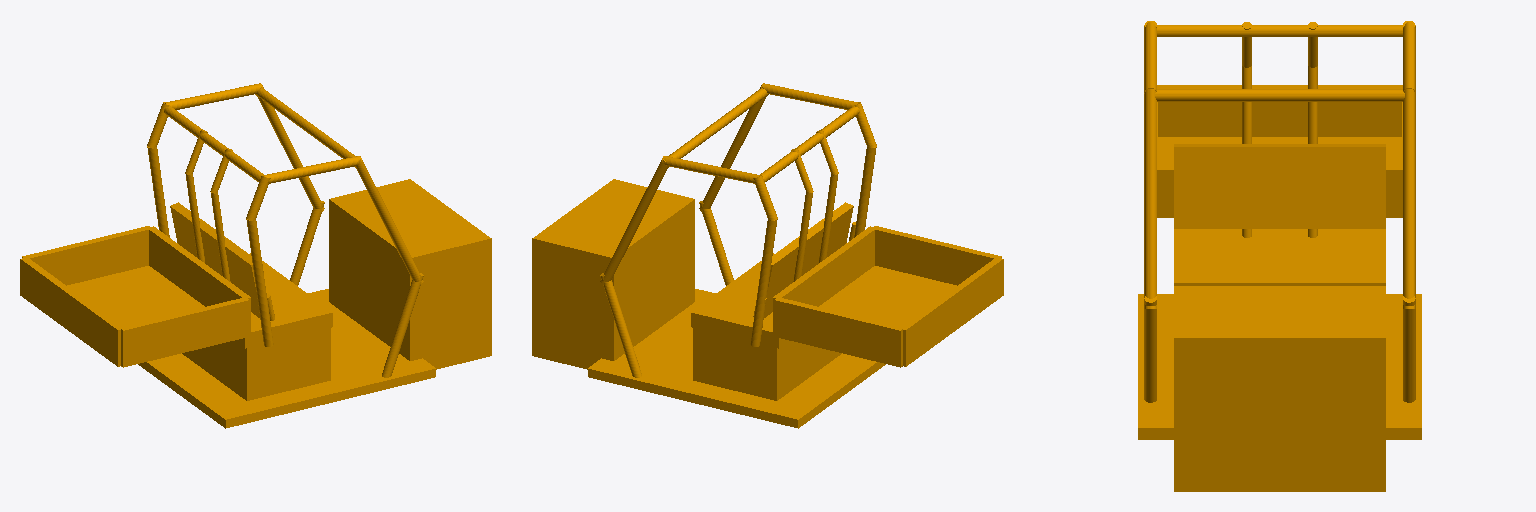
The robot description file, URDF, robot "polaris_ranger_ev":
<?xml version="1.0" encoding="UTF-8"?><robot xmlns:trans="http://www.mit.edu" xmlns:xs="http://www.w3.org/2001/XMLSchema" xmlns:mat="http://www.mit.edu" name="polaris_ranger_ev">
    <link name="chassis">
      
      <collision name="chassis_bottom">
         <origin xyz="0.1 0 0.37" rpy="0 -0 0"/>
         <geometry>
            <box size="1.5 1.34 0.06"/>
         </geometry>
      </collision>
  <visual name="chassis_bottom">
         <origin xyz="0.1 0 0.37" rpy="0 -0 0"/>
         <geometry>
            <box size="1.5 1.34 0.06"/>
         </geometry>
      </visual>
  
      <collision name="cargo_bottom">
         <origin xyz="-0.9 0 0.9" rpy="0 -0 0"/>
         <geometry>
            <box size="0.9 1.2 0.01"/>
         </geometry>
      </collision>
  <visual name="cargo_bottom">
         <origin xyz="-0.9 0 0.9" rpy="0 -0 0"/>
         <geometry>
            <box size="0.9 1.2 0.01"/>
         </geometry>
      </visual>
  
      <collision name="cargo_front">
         <origin xyz="-0.45 0 1.025" rpy="0 -0 0"/>
         <geometry>
            <box size="0.05 1.2 0.25"/>
         </geometry>
      </collision>
  <visual name="cargo_front">
         <origin xyz="-0.45 0 1.025" rpy="0 -0 0"/>
         <geometry>
            <box size="0.05 1.2 0.25"/>
         </geometry>
      </visual>
  
      <collision name="cargo_back">
         <origin xyz="-1.35 0 1.025" rpy="0 -0 0"/>
         <geometry>
            <box size="0.05 1.2 0.25"/>
         </geometry>
      </collision>
  <visual name="cargo_back">
         <origin xyz="-1.35 0 1.025" rpy="0 -0 0"/>
         <geometry>
            <box size="0.05 1.2 0.25"/>
         </geometry>
      </visual>
  
      <collision name="cargo_left">
         <origin xyz="-0.9 0.6 1.025" rpy="0 -0 0"/>
         <geometry>
            <box size="0.9 0.05 0.25"/>
         </geometry>
      </collision>
  <visual name="cargo_left">
         <origin xyz="-0.9 0.6 1.025" rpy="0 -0 0"/>
         <geometry>
            <box size="0.9 0.05 0.25"/>
         </geometry>
      </visual>
  
      <collision name="cargo_right">
         <origin xyz="-0.9 -0.6 1.025" rpy="0 -0 0"/>
         <geometry>
            <box size="0.9 0.05 0.25"/>
         </geometry>
      </collision>
  <visual name="cargo_right">
         <origin xyz="-0.9 -0.6 1.025" rpy="0 -0 0"/>
         <geometry>
            <box size="0.9 0.05 0.25"/>
         </geometry>
      </visual>
  
      <collision name="seat">
         <origin xyz="-0.1 0 0.56" rpy="0 -0 0"/>
         <geometry>
            <box size="0.6 1.0 0.50"/>
         </geometry>
      </collision>
  <visual name="seat">
         <origin xyz="-0.1 0 0.56" rpy="0 -0 0"/>
         <geometry>
            <box size="0.6 1.0 0.50"/>
         </geometry>
      </visual>
  
      <collision name="mud_seat">
         <origin xyz="-0.1 0 0.81" rpy="0 -0 0"/>
         <geometry>
            <box size="0.63 1.0 0.1"/>
         </geometry>
      </collision>
  <visual name="mud_seat">
         <origin xyz="-0.1 0 0.81" rpy="0 -0 0"/>
         <geometry>
            <box size="0.63 1.0 0.1"/>
         </geometry>
      </visual>
  
      <collision name="seat_back">
         <origin xyz="-0.3 0 1.125" rpy="0 -0.19999999999999998 0"/>
         <geometry>
            <box size="0.06 1.0 0.4"/>
         </geometry>
      </collision>
  <visual name="seat_back">
         <origin xyz="-0.3 0 1.125" rpy="0 -0.19999999999999998 0"/>
         <geometry>
            <box size="0.06 1.0 0.4"/>
         </geometry>
      </visual>
  
      <collision name="engine">
         <origin xyz="1.05 0 0.7" rpy="0 -0 0"/>
         <geometry>
            <box size="0.58 1.0 0.8"/>
         </geometry>
      </collision>
  <visual name="engine">
         <origin xyz="1.05 0 0.7" rpy="0 -0 0"/>
         <geometry>
            <box size="0.58 1.0 0.8"/>
         </geometry>
      </visual>
  
      <collision name="handle_left_middle">
         <origin xyz="-0.35 0.61 1.055" rpy="0 -0.19999999999999998 0"/>
         <geometry>
            <cylinder radius="0.02" length="0.17"/>
         </geometry>
      </collision>
  <visual name="handle_left_middle">
         <origin xyz="-0.35 0.61 1.055" rpy="0 -0.19999999999999998 0"/>
         <geometry>
            <cylinder radius="0.02" length="0.17"/>
         </geometry>
      </visual>
  
      <collision name="handle_right_middle">
         <origin xyz="-0.3 -0.61 1.055" rpy="0 -0.19999999999999998 0"/>
         <geometry>
            <cylinder radius="0.02" length="0.17"/>
         </geometry>
      </collision>
  <visual name="handle_right_middle">
         <origin xyz="-0.3 -0.61 1.055" rpy="0 -0.19999999999999998 0"/>
         <geometry>
            <cylinder radius="0.02" length="0.17"/>
         </geometry>
      </visual>
  
      <collision name="rollcage_top_left">
         <origin xyz="0 0.61 1.92" rpy="3.141592653589793 1.5315926535897932 3.141592653589793"/>
         <geometry>
            <cylinder radius="0.03" length="0.68"/>
         </geometry>
      </collision>
  <visual name="rollcage_top_left">
         <origin xyz="0 0.61 1.92" rpy="3.141592653589793 1.5315926535897932 3.141592653589793"/>
         <geometry>
            <cylinder radius="0.03" length="0.68"/>
         </geometry>
      </visual>
  
      <collision name="rollcage_top_right">
         <origin xyz="0 -0.61 1.92" rpy="3.141592653589793 1.5315926535897932 3.141592653589793"/>
         <geometry>
            <cylinder radius="0.03" length="0.68"/>
         </geometry>
      </collision>
  <visual name="rollcage_top_right">
         <origin xyz="0 -0.61 1.92" rpy="3.141592653589793 1.5315926535897932 3.141592653589793"/>
         <geometry>
            <cylinder radius="0.03" length="0.68"/>
         </geometry>
      </visual>
  
      <collision name="rollcage_top_front">
         <origin xyz="0.325 0 1.89" rpy="1.570796 -0 0"/>
         <geometry>
            <cylinder radius="0.03" length="1.22"/>
         </geometry>
      </collision>
  <visual name="rollcage_top_front">
         <origin xyz="0.325 0 1.89" rpy="1.570796 -0 0"/>
         <geometry>
            <cylinder radius="0.03" length="1.22"/>
         </geometry>
      </visual>
  
      <collision name="rollcage_top_back">
         <origin xyz="-0.33 0 1.92" rpy="1.570796 -0 0"/>
         <geometry>
            <cylinder radius="0.03" length="1.22"/>
         </geometry>
      </collision>
  <visual name="rollcage_top_back">
         <origin xyz="-0.33 0 1.92" rpy="1.570796 -0 0"/>
         <geometry>
            <cylinder radius="0.03" length="1.22"/>
         </geometry>
      </visual>
  
      <collision name="rollcage_front_left">
         <origin xyz="0.54 0.61 1.45" rpy="0 -0.44000000000000006 0"/>
         <geometry>
            <cylinder radius="0.03" length="1.04"/>
         </geometry>
      </collision>
  <visual name="rollcage_front_left">
         <origin xyz="0.54 0.61 1.45" rpy="0 -0.44000000000000006 0"/>
         <geometry>
            <cylinder radius="0.03" length="1.04"/>
         </geometry>
      </visual>
  
      <collision name="rollcage_front_right">
         <origin xyz="0.54 -0.61 1.45" rpy="0 -0.44000000000000006 0"/>
         <geometry>
            <cylinder radius="0.03" length="1.04"/>
         </geometry>
      </collision>
  <visual name="rollcage_front_right">
         <origin xyz="0.54 -0.61 1.45" rpy="0 -0.44000000000000006 0"/>
         <geometry>
            <cylinder radius="0.03" length="1.04"/>
         </geometry>
      </visual>
  
      <collision name="fender_front_right">
         <origin xyz="0.64 -0.61 0.7" rpy="0 0.35 0"/>
         <geometry>
            <cylinder radius="0.03" length="0.72"/>
         </geometry>
      </collision>
  <visual name="fender_front_right">
         <origin xyz="0.64 -0.61 0.7" rpy="0 0.35 0"/>
         <geometry>
            <cylinder radius="0.03" length="0.72"/>
         </geometry>
      </visual>
  
      <collision name="fender_front_left">
         <origin xyz="0.64 0.61 0.7" rpy="0 0.35 0"/>
         <geometry>
            <cylinder radius="0.03" length="0.72"/>
         </geometry>
      </collision>
  <visual name="fender_front_left">
         <origin xyz="0.64 0.61 0.7" rpy="0 0.35 0"/>
         <geometry>
            <cylinder radius="0.03" length="0.72"/>
         </geometry>
      </visual>
  
      <collision name="rollcage_back_left">
         <origin xyz="-0.37 0.61 1.25" rpy="0 -0.14 0"/>
         <geometry>
            <cylinder radius="0.03" length="0.90"/>
         </geometry>
      </collision>
  <visual name="rollcage_back_left">
         <origin xyz="-0.37 0.61 1.25" rpy="0 -0.14 0"/>
         <geometry>
            <cylinder radius="0.03" length="0.90"/>
         </geometry>
      </visual>
  
      <collision name="rollcage_back_right">
         <origin xyz="-0.37 -0.61 1.25" rpy="0 -0.14 0"/>
         <geometry>
            <cylinder radius="0.03" length="0.90"/>
         </geometry>
      </collision>
  <visual name="rollcage_back_right">
         <origin xyz="-0.37 -0.61 1.25" rpy="0 -0.14 0"/>
         <geometry>
            <cylinder radius="0.03" length="0.90"/>
         </geometry>
      </visual>
  
      <collision name="rollcage_back_midleft">
         <origin xyz="-0.37 0.155 1.25" rpy="0 -0.14 0"/>
         <geometry>
            <cylinder radius="0.023" length="0.90"/>
         </geometry>
      </collision>
  <visual name="rollcage_back_midleft">
         <origin xyz="-0.37 0.155 1.25" rpy="0 -0.14 0"/>
         <geometry>
            <cylinder radius="0.023" length="0.90"/>
         </geometry>
      </visual>
  
      <collision name="rollcage_back_midright">
         <origin xyz="-0.37 -0.155 1.25" rpy="0 -0.14 0"/>
         <geometry>
            <cylinder radius="0.023" length="0.90"/>
         </geometry>
      </collision>
  <visual name="rollcage_back_midright">
         <origin xyz="-0.37 -0.155 1.25" rpy="0 -0.14 0"/>
         <geometry>
            <cylinder radius="0.023" length="0.90"/>
         </geometry>
      </visual>
  
      <collision name="rollcage_back_upper_left">
         <origin xyz="-0.38 0.61 1.82" rpy="0 0.4 0"/>
         <geometry>
            <cylinder radius="0.03" length="0.29"/>
         </geometry>
      </collision>
  <visual name="rollcage_back_upper_left">
         <origin xyz="-0.38 0.61 1.82" rpy="0 0.4 0"/>
         <geometry>
            <cylinder radius="0.03" length="0.29"/>
         </geometry>
      </visual>
  
      <collision name="rollcage_back_upper_right">
         <origin xyz="-0.38 -0.61 1.82" rpy="0 0.4 0"/>
         <geometry>
            <cylinder radius="0.03" length="0.29"/>
         </geometry>
      </collision>
  <visual name="rollcage_back_upper_right">
         <origin xyz="-0.38 -0.61 1.82" rpy="0 0.4 0"/>
         <geometry>
            <cylinder radius="0.03" length="0.29"/>
         </geometry>
      </visual>
  
      <collision name="rollcage_back_upper_midleft">
         <origin xyz="-0.38 0.155 1.82" rpy="0 0.4 0"/>
         <geometry>
            <cylinder radius="0.023" length="0.29"/>
         </geometry>
      </collision>
  <visual name="rollcage_back_upper_midleft">
         <origin xyz="-0.38 0.155 1.82" rpy="0 0.4 0"/>
         <geometry>
            <cylinder radius="0.023" length="0.29"/>
         </geometry>
      </visual>
  
      <collision name="rollcage_back_upper_midright">
         <origin xyz="-0.38 -0.155 1.82" rpy="0 0.4 0"/>
         <geometry>
            <cylinder radius="0.023" length="0.29"/>
         </geometry>
      </collision>
  <visual name="rollcage_back_upper_midright">
         <origin xyz="-0.38 -0.155 1.82" rpy="0 0.4 0"/>
         <geometry>
            <cylinder radius="0.023" length="0.29"/>
         </geometry>
      </visual>
  
   </link>
    <!--plugin name="seat_mud" filename="libMudPlugin.so">
      <contact_sensor_name>chassis/seat_contact</contact_sensor_name>
      <stiffness>0.0</stiffness>
      <damping>100.0</damping>
      <link_name>atlas::pelvis</link_name>
    </plugin-->
  </robot>

--- What the picture shows (computed from the rendered views, not written in the file) ---
Views: 3 orthographic renders of the robot side by side, from view 1: azimuth 30°, elevation 25°; view 2: azimuth 150°, elevation 25°; view 3: azimuth 270°, elevation 25°.
Model polaris_ranger_ev with 1 links and 0 joints (none), rooted at chassis, posed every joint at zero.
Visible links, largest first — view 1: chassis; view 2: chassis; view 3: chassis.
Boxes of the visible links, x1,y1,x2,y2 form: chassis: [20, 83, 491, 428]; chassis: [532, 83, 1003, 428]; chassis: [1138, 21, 1421, 491].
Bounding box of the posed robot: 2.71 × 1.34 × 1.67 m (x, y, z).
Geometry: primitives only (box / cylinder / sphere), no mesh files.